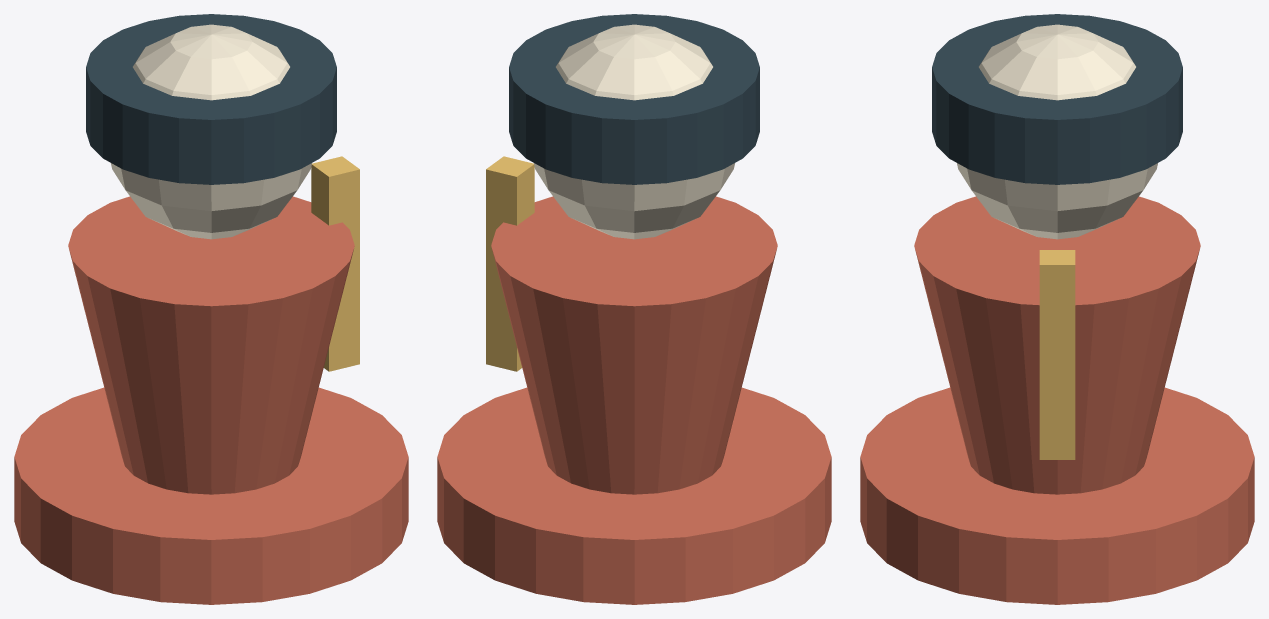
File: tabletop-game-components-soldier-pawn-c4f48900__20854.glb
The picture shows the model from 3 angles, left to right: view 1: azimuth 30°, elevation 25°; view 2: azimuth 150°, elevation 25°; view 3: azimuth 270°, elevation 25°; orthographic projection.
Parts seen in each view (by area): view 1: soldier-pawn; view 2: soldier-pawn; view 3: soldier-pawn.
Part boxes in pixels (x1,y1,x2,y2): soldier-pawn: (14,14,408,604); soldier-pawn: (437,14,831,604); soldier-pawn: (860,14,1254,604).
Bounding box in the file's own units: 0.022 × 0.03 × 0.022.
